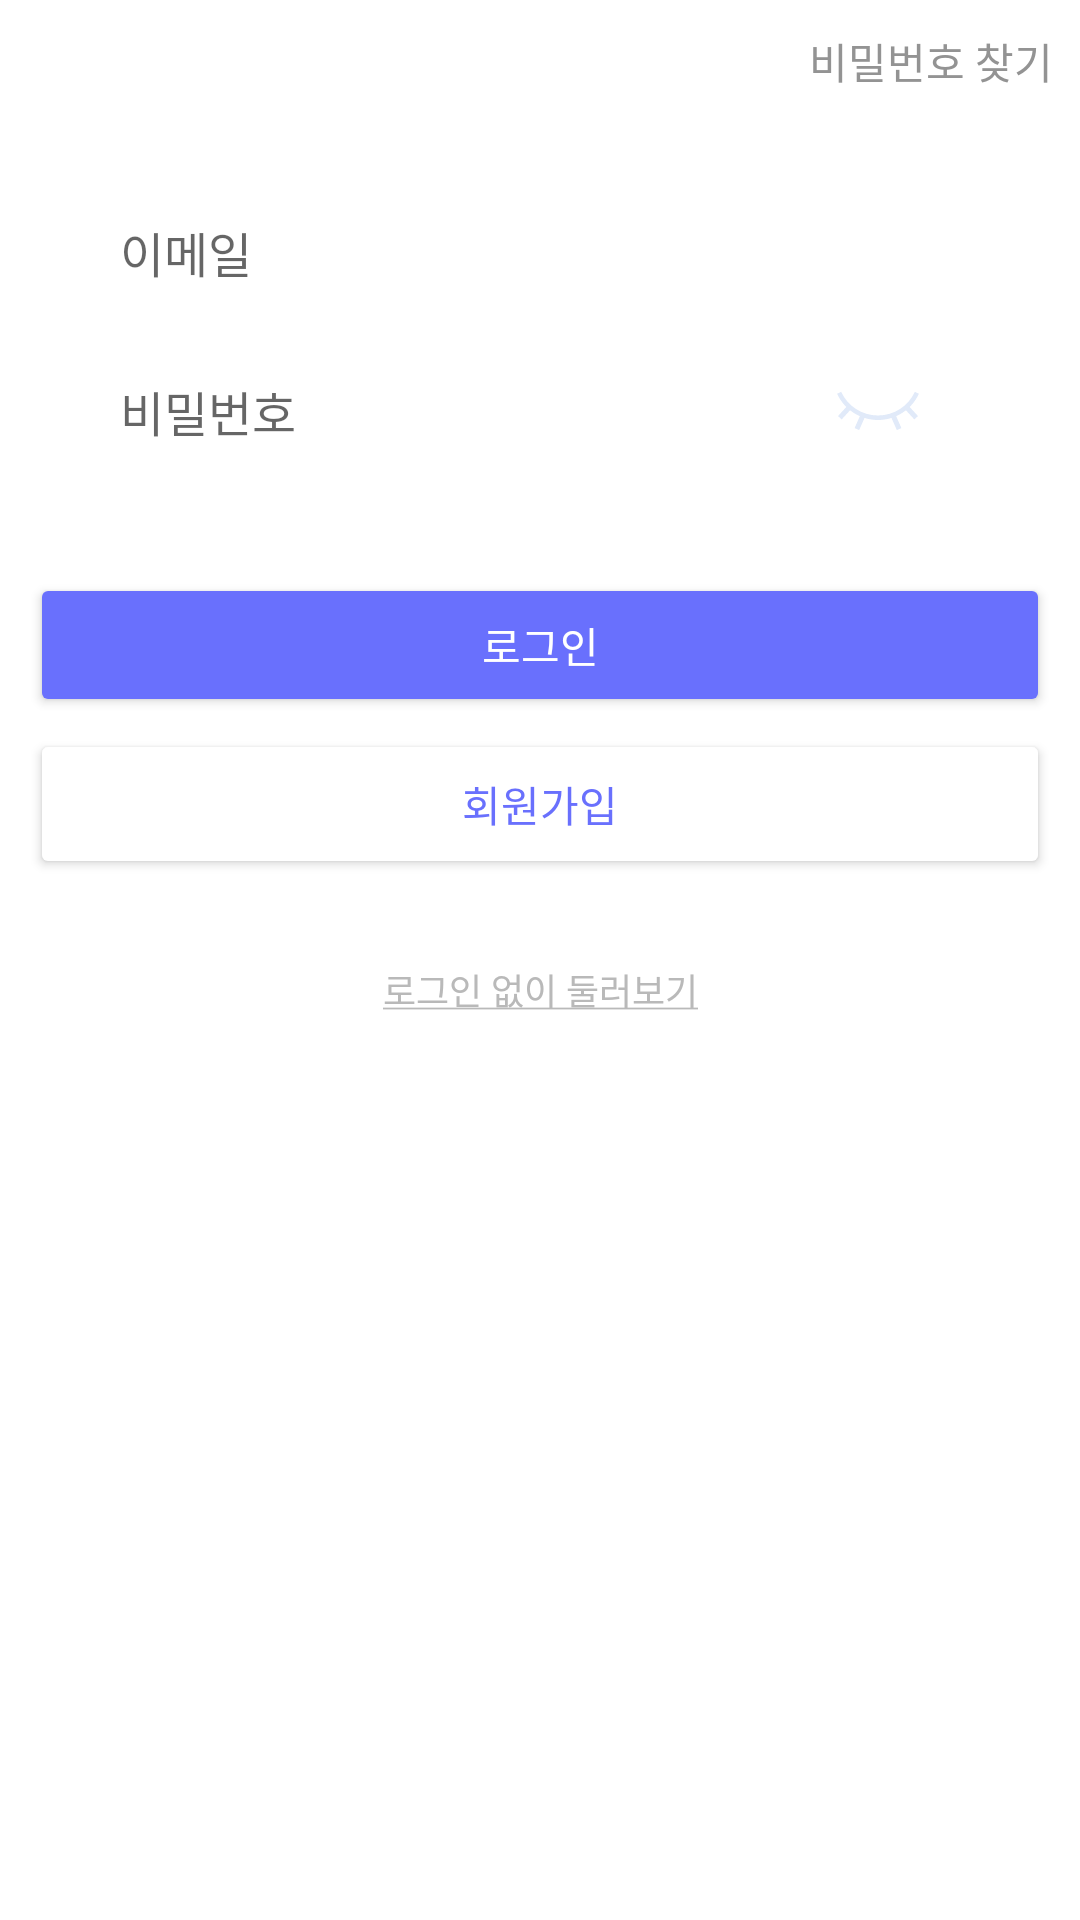

Icon bounding boxes for this 1080px x 1920px phone screenshot, format BBox(x1, y1, x2, y2):
closed eye: BBox(838, 392, 918, 430)
